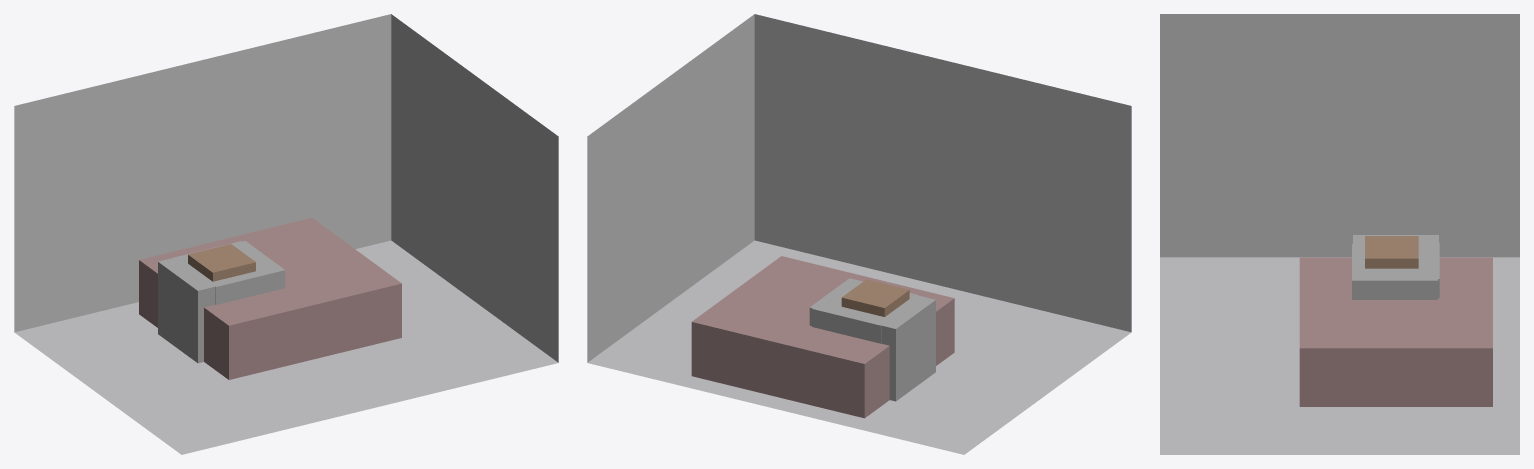
Rendered from optimised_layout.glb.
3 views of the same model, side by side, from view 1: azimuth 30°, elevation 25°; view 2: azimuth 150°, elevation 25°; view 3: azimuth 270°, elevation 25° (orthographic). The views are drawn at different scales.
Parts seen in each view (by area): view 1: room, bed, tableLamp, studyTable, chair, bookShelf; view 2: room, bed, tableLamp, bookShelf, chair, studyTable; view 3: room, bed, studyTable, chair, bookShelf.
Boxes of the visible parts, box(x1,y1,x2,y2) form: room: box(14, 14, 558, 454); bed: box(139, 218, 401, 379); tableLamp: box(158, 246, 221, 363); studyTable: box(176, 241, 285, 304); chair: box(188, 244, 255, 281); bookShelf: box(173, 241, 280, 286); room: box(587, 14, 1131, 454); bed: box(691, 256, 954, 418); tableLamp: box(827, 295, 935, 401); bookShelf: box(812, 279, 909, 343); chair: box(841, 279, 909, 316); studyTable: box(809, 278, 918, 325); room: box(1160, 14, 1519, 454); bed: box(1299, 257, 1492, 406); studyTable: box(1352, 244, 1437, 299); chair: box(1365, 236, 1418, 268); bookShelf: box(1353, 242, 1439, 298).
Size of the model in its own units: 4.36 by 2.5 by 3.35.
